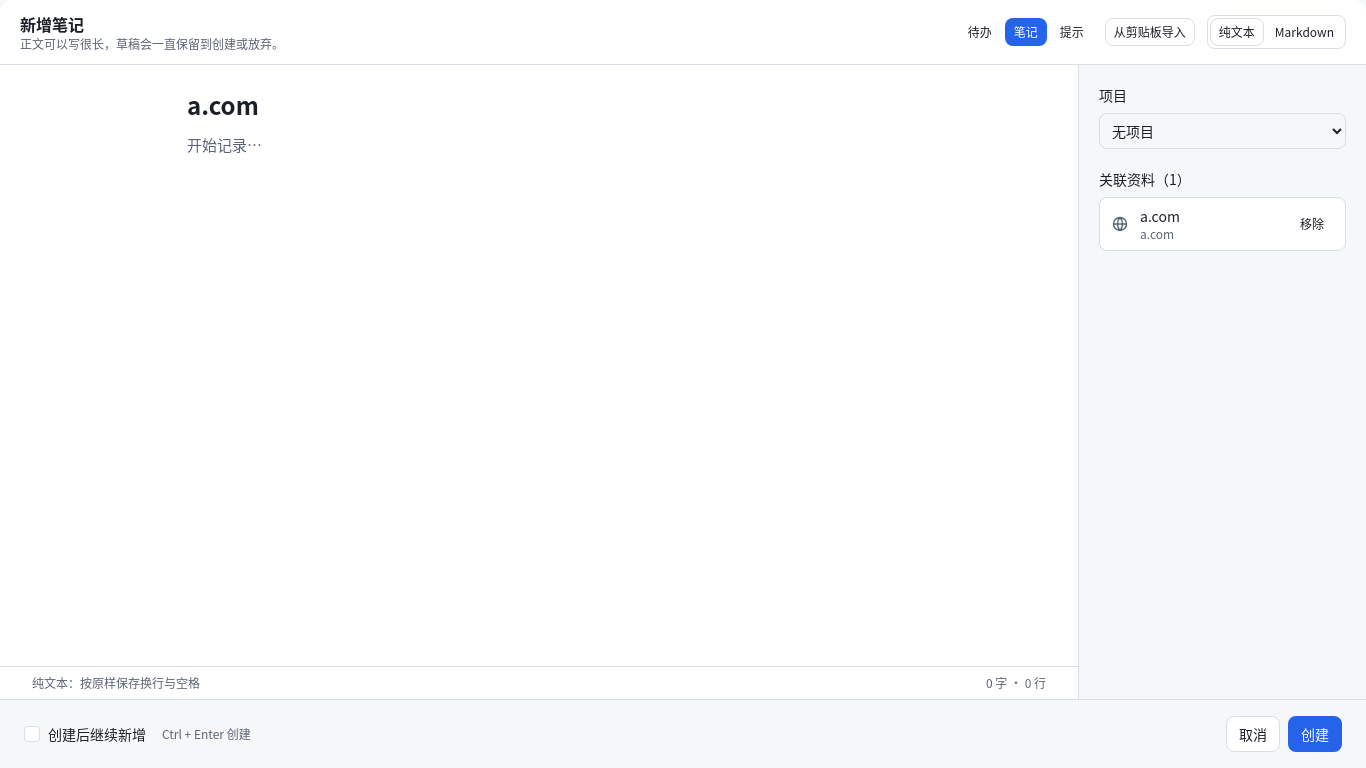
Scenario: 配置页里的本地文件引用 › 带着拖入内容取消：先确认放弃
What coordinates should you click on to do the following:
click the button "取消"
I would click on:
 (1253, 734)
Its box is [1226,716,1280,752].
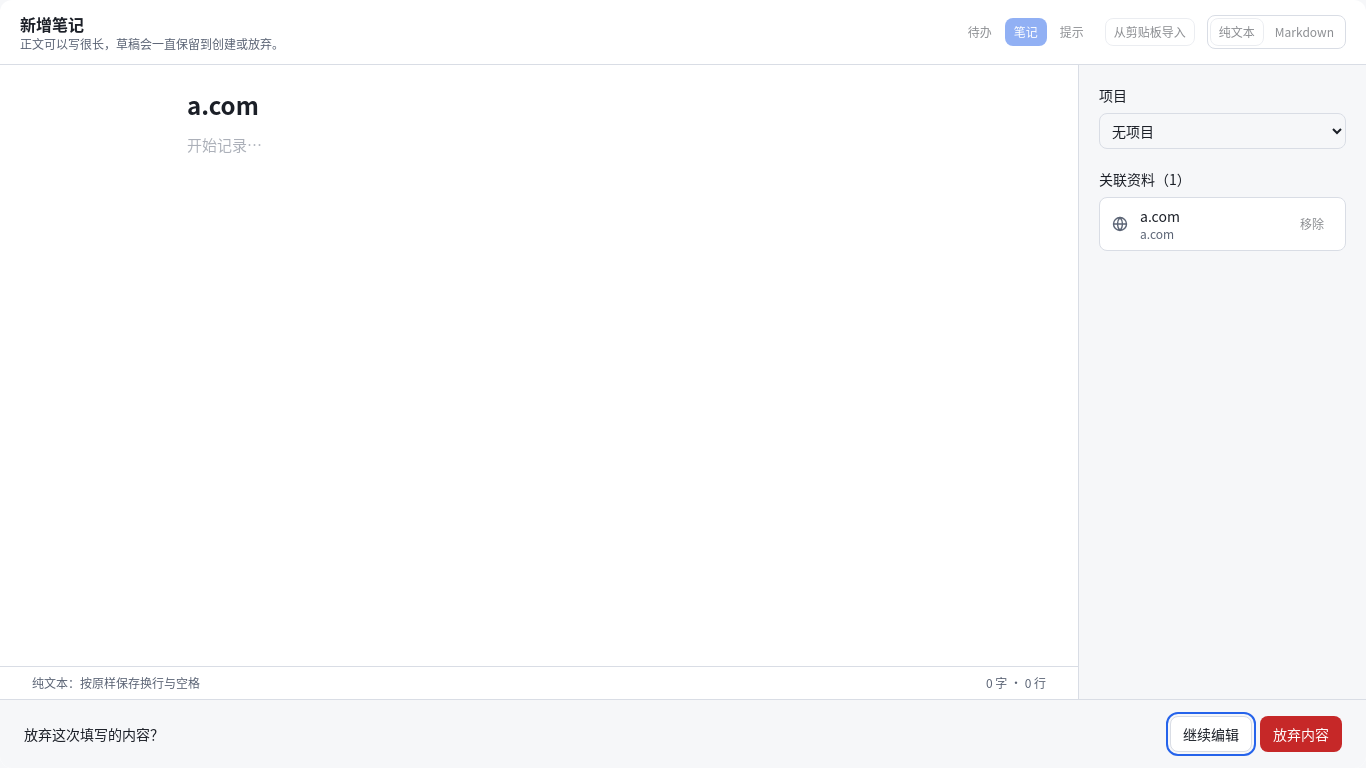
Expected: the text "放弃这次填写的内容？" is shown, [24,724,164,744]
